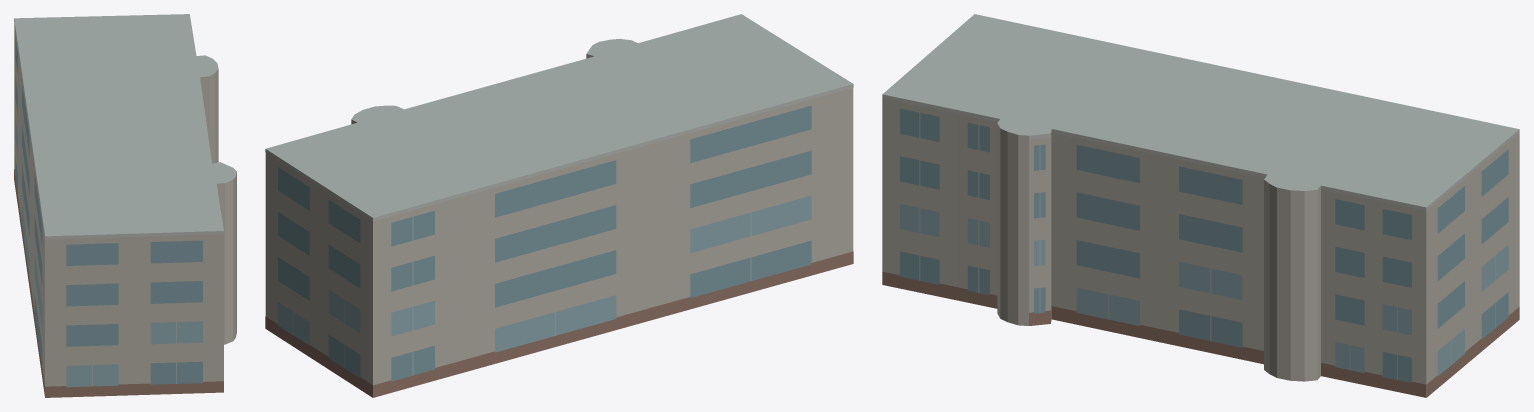
Rendered from survey-upis-32973488.glb.
The picture shows the model from 3 angles, left to right: view 1: azimuth 30°, elevation 25°; view 2: azimuth 150°, elevation 25°; view 3: azimuth 270°, elevation 25°; orthographic projection. The views are drawn at different scales.
Parts seen in each view (by area): view 1: survey-upis-32973488.tmp; view 2: survey-upis-32973488.tmp; view 3: survey-upis-32973488.tmp.
Part boxes in pixels (x1,y1,x2,y2): survey-upis-32973488.tmp: (14,14,236,397); survey-upis-32973488.tmp: (265,14,853,397); survey-upis-32973488.tmp: (882,14,1519,397).
Bounding box in the file's own units: 26.58 × 12.2 × 37.
